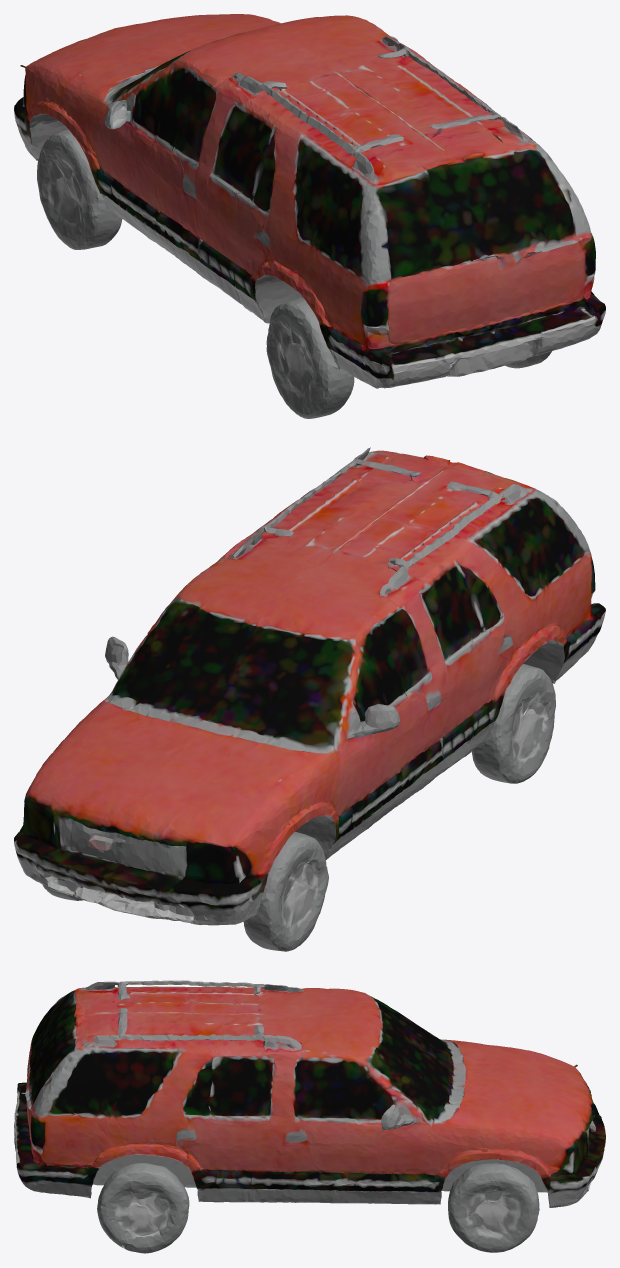
The picture shows the model from 3 angles, top to bottom: view 1: azimuth 30°, elevation 25°; view 2: azimuth 150°, elevation 25°; view 3: azimuth 270°, elevation 25°; orthographic projection. The views are drawn at different scales.
Parts seen in each view (by area): view 1: defaultobject; view 2: defaultobject; view 3: defaultobject.
Boxes of the visible parts, x1,y1,x2,y2 form: defaultobject: (14,14,605,418); defaultobject: (14,447,605,951); defaultobject: (14,980,605,1253).
Size of the model in its own units: 0.4121 by 0.3634 by 0.9484.
